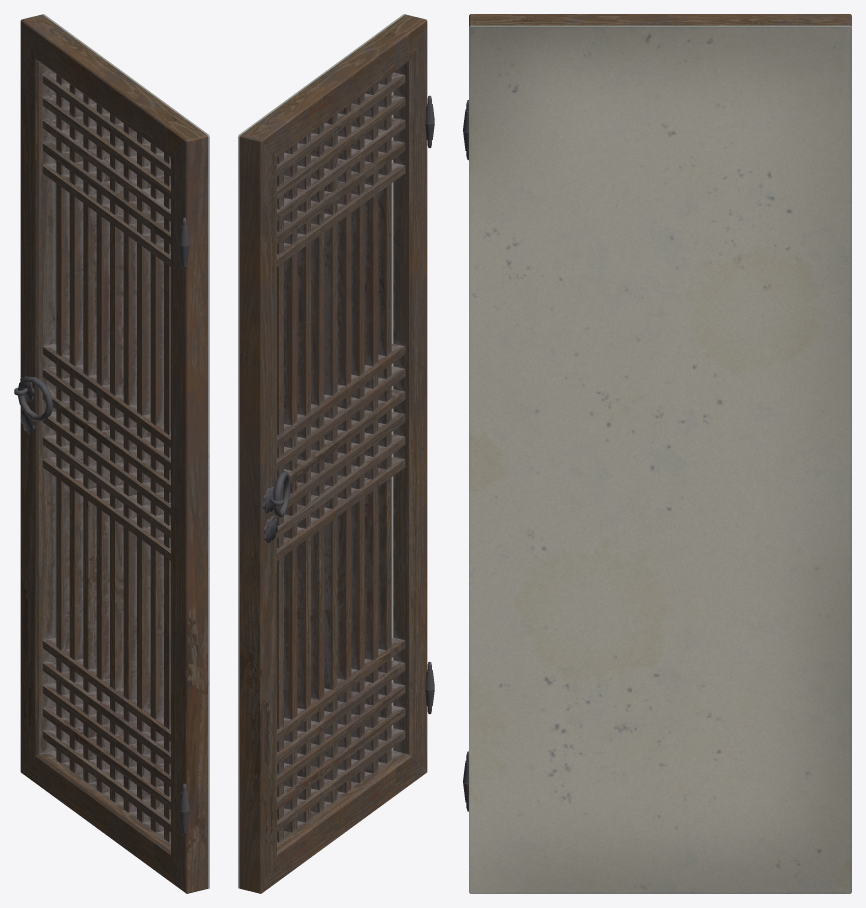
File: SM_JWD_Door02b.fbx
The picture shows the model from 3 angles, left to right: view 1: azimuth 30°, elevation 25°; view 2: azimuth 150°, elevation 25°; view 3: azimuth 270°, elevation 25°; orthographic projection. The views are drawn at different scales.
Parts seen in each view (by area): view 1: SM_JWD_Door02b; view 2: SM_JWD_Door02b; view 3: SM_JWD_Door02b.
Part boxes in pixels (x1,y1,x2,y2): SM_JWD_Door02b: (14,14,209,893); SM_JWD_Door02b: (238,14,434,893); SM_JWD_Door02b: (463,14,851,893).
Bounding box in the file's own units: 10.15 × 81.23 × 200.
1 material, 1 textured.
